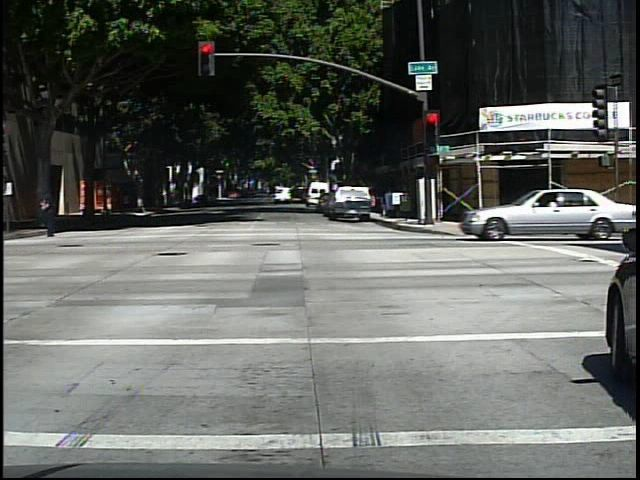person: (36, 188, 65, 241)
